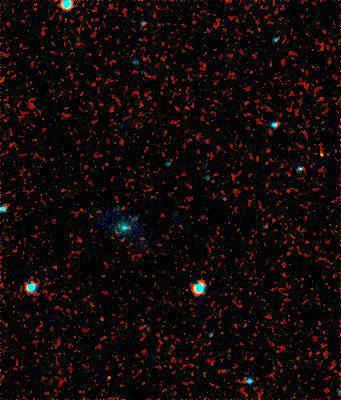star: (307, 140, 337, 170)
